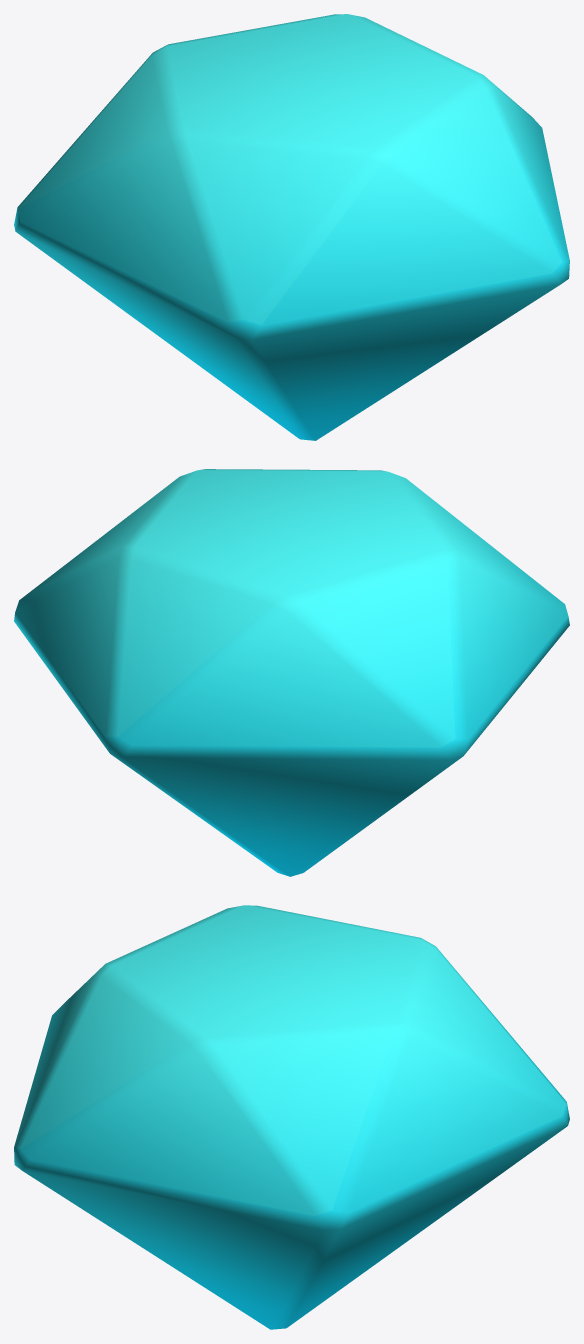
Rendered from diamondanim.fbx.
The picture shows the model from 3 angles, top to bottom: view 1: azimuth 30°, elevation 25°; view 2: azimuth 150°, elevation 25°; view 3: azimuth 270°, elevation 25°; orthographic projection. The views are drawn at different scales.
Visible parts, largest first — view 1: Collectible_Diamond_01; view 2: Collectible_Diamond_01; view 3: Collectible_Diamond_01.
Boxes of the visible parts, bbox=[...] form: Collectible_Diamond_01: bbox=[14, 14, 569, 440]; Collectible_Diamond_01: bbox=[14, 469, 569, 876]; Collectible_Diamond_01: bbox=[14, 905, 569, 1329].
Size of the model in its own units: 109 by 75.28 by 108.
